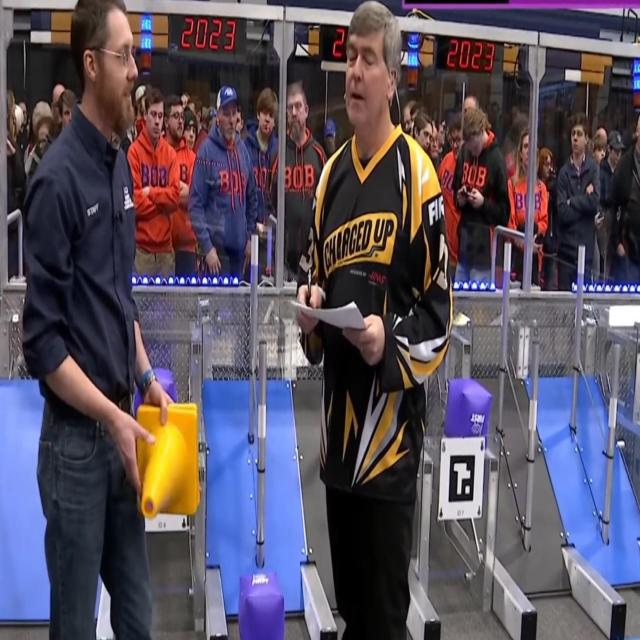frc_cone: (135, 404, 198, 522)
frc_cube: (237, 568, 287, 640), (442, 377, 489, 441), (134, 367, 178, 407)
